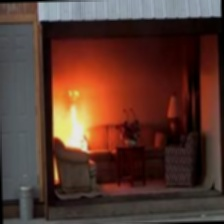fire: (51, 79, 108, 143)
